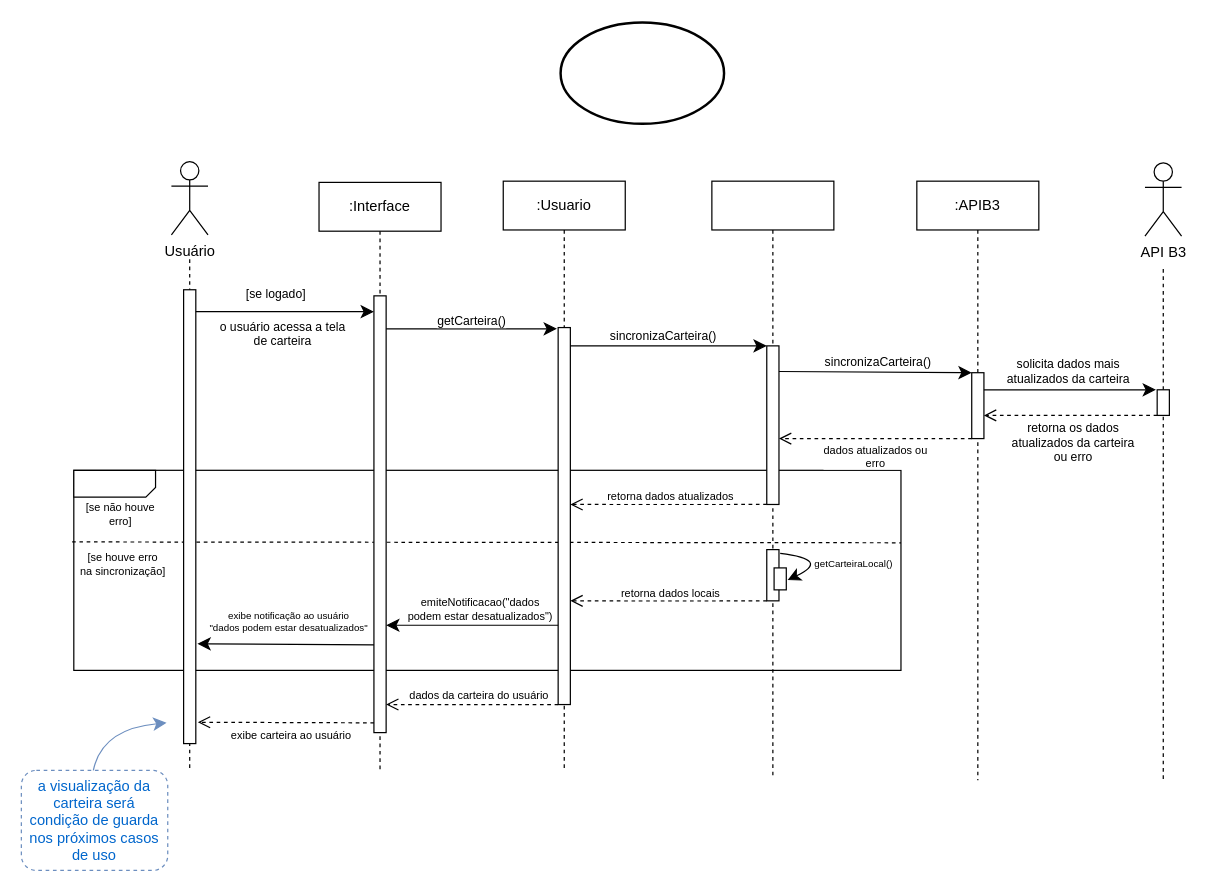
The diagram is 1207 pixels wide and 892 high, and some of its shapes have lost their labels. The centre of each missing label's shape, as x and y in pixels:
:Carteira: the point at 772,477
UC-19 Visualizar carteira de ações: the point at 642,72
verifica erro: the point at 114,483
